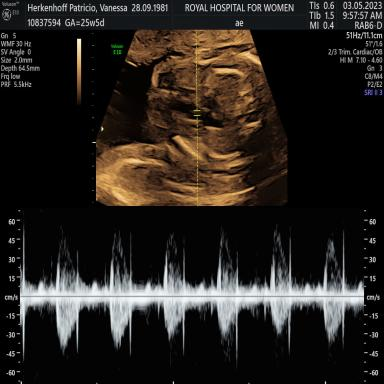Ultrasound-Waves: (27, 213, 361, 384)
